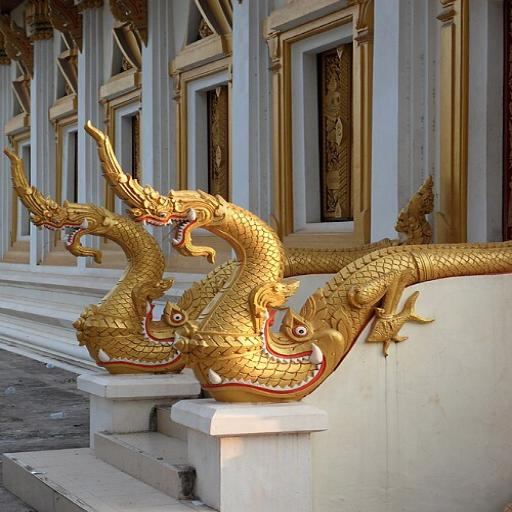ran: (93, 140, 422, 406), (15, 159, 187, 376)
